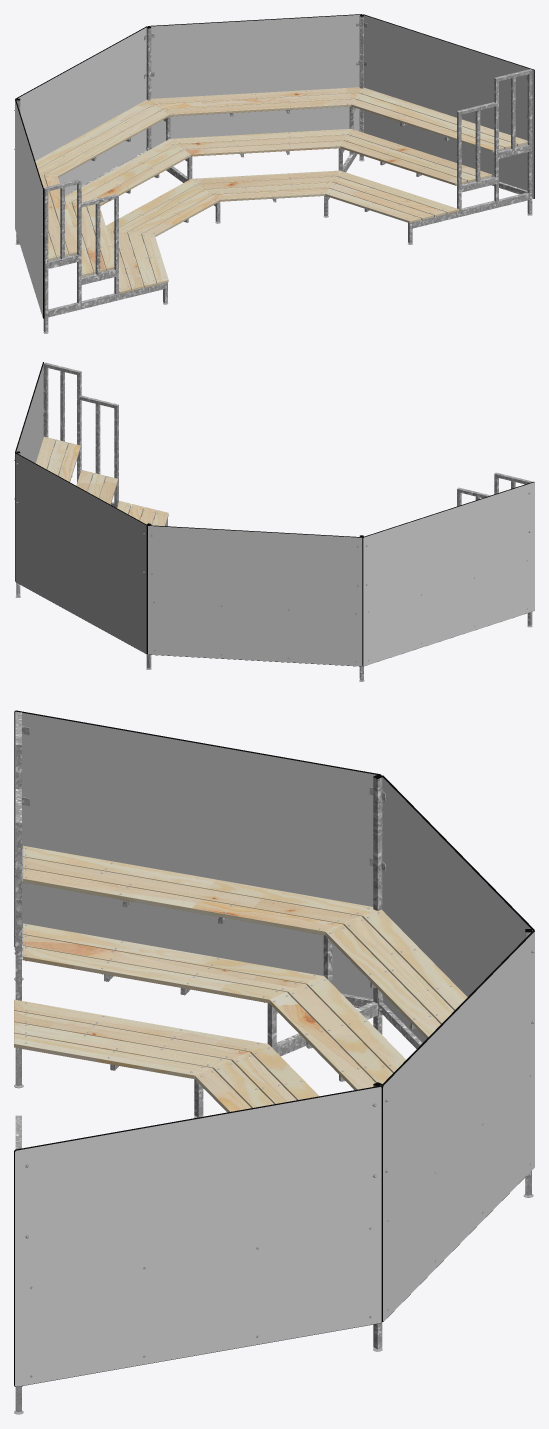
The model's file is teatro-neu.glb.
The picture shows the model from 3 angles, top to bottom: view 1: azimuth 30°, elevation 25°; view 2: azimuth 150°, elevation 25°; view 3: azimuth 270°, elevation 25°; orthographic projection. The views are drawn at different scales.
Parts seen in each view (by area): view 1: HPL, Kiefernholz, Gestell, HPL-Kante, Schrauben; view 2: HPL, Gestell, Kiefernholz, HPL-Kante; view 3: HPL, Kiefernholz, Gestell, HPL-Kante, Schrauben.
Boxes of the visible parts, <box> form: HPL: <box>15,15,534,317</box>; Kiefernholz: <box>35,87,527,293</box>; Gestell: <box>16,16,532,332</box>; HPL-Kante: <box>15,14,534,318</box>; Schrauben: <box>14,24,531,317</box>; HPL: <box>15,362,534,666</box>; Gestell: <box>16,362,532,680</box>; Kiefernholz: <box>35,436,168,525</box>; HPL-Kante: <box>15,362,534,666</box>; HPL: <box>14,711,534,1386</box>; Kiefernholz: <box>14,845,467,1112</box>; Gestell: <box>15,712,531,1411</box>; HPL-Kante: <box>14,710,534,1386</box>; Schrauben: <box>14,729,534,1377</box>.
Bounding box in the file's own units: 6.4 × 1.8 × 3.2.
Materials: 4 (2 with a texture image).
